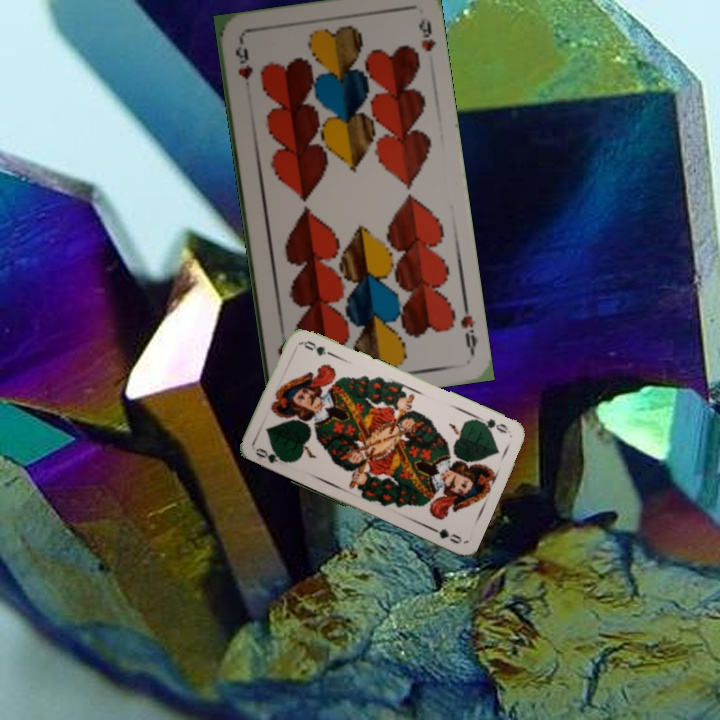GO: (473, 412, 512, 436), (252, 444, 292, 466)
H9: (456, 298, 480, 357), (231, 36, 255, 83)
